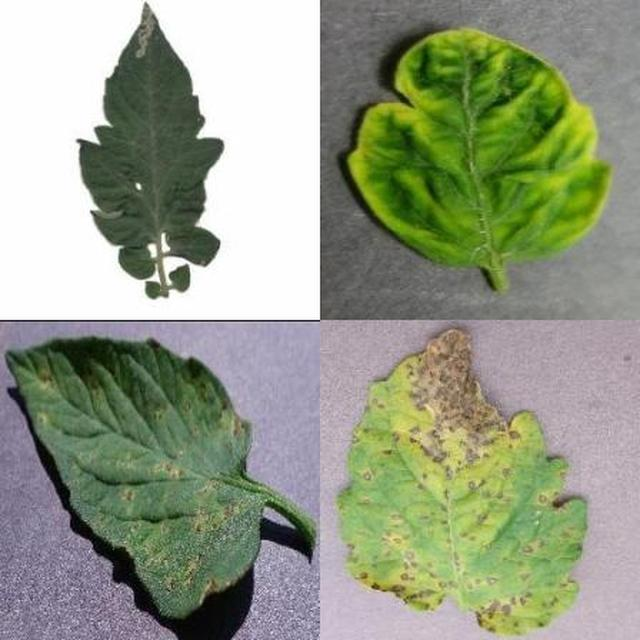Leaf Miner: (193, 180, 640, 640)
